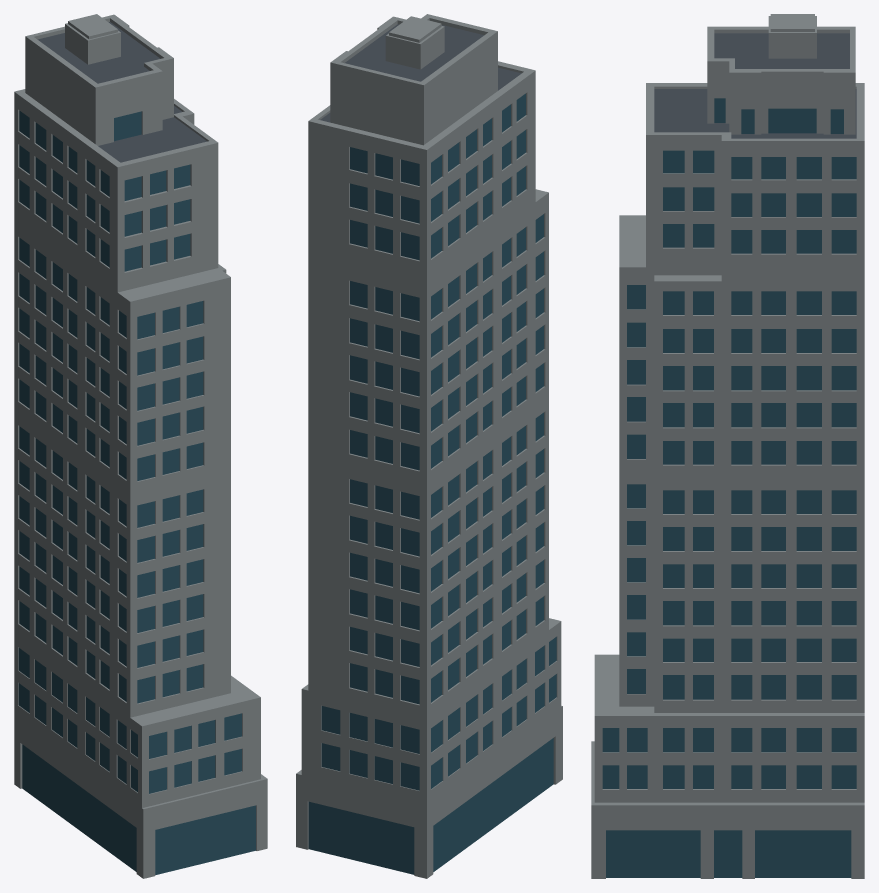
The model's file is SM_Edificio.fbx.
3 views of the same model, side by side, from view 1: azimuth 30°, elevation 25°; view 2: azimuth 150°, elevation 25°; view 3: azimuth 270°, elevation 25° (orthographic). The views are drawn at different scales.
Parts seen in each view (by area): view 1: SM_Edificio; view 2: SM_Edificio; view 3: SM_Edificio.
Boxes of the visible parts, x1,y1,x2,y2 form: SM_Edificio: (14,14,267,878); SM_Edificio: (296,14,562,878); SM_Edificio: (591,14,864,878).
Size of what is drawn, in the model's own units: 556 by 1000 by 3300.
